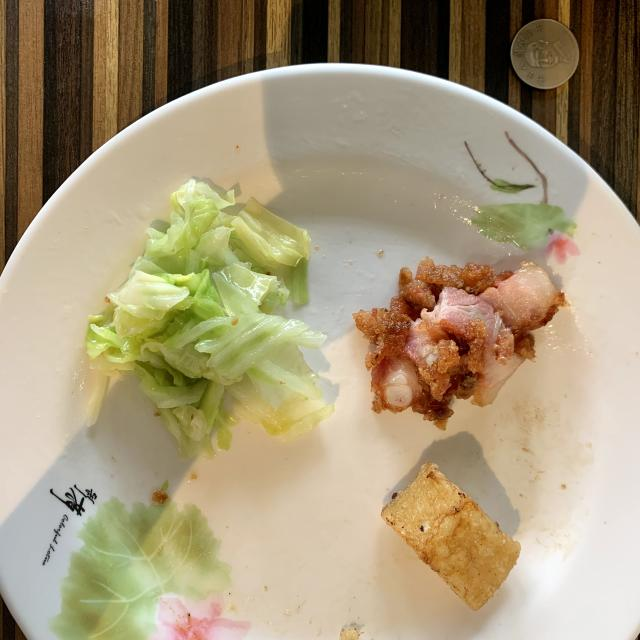cabbage: (86, 179, 334, 459)
coin: (510, 19, 579, 90)
fried potato: (381, 462, 520, 610)
red grilled pork: (354, 258, 565, 429)
